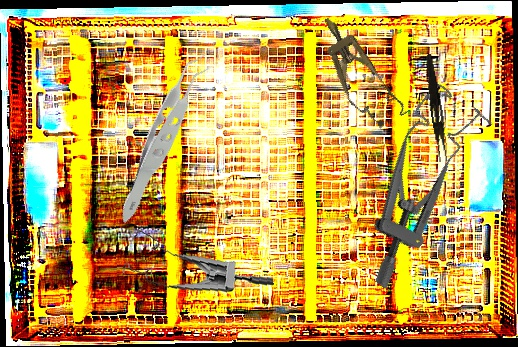Dressing Forceps: (420, 53, 452, 163)
Speculum: (318, 79, 507, 291), (118, 214, 274, 305), (306, 6, 410, 136)
Tissue Forceps: (69, 46, 267, 225)
